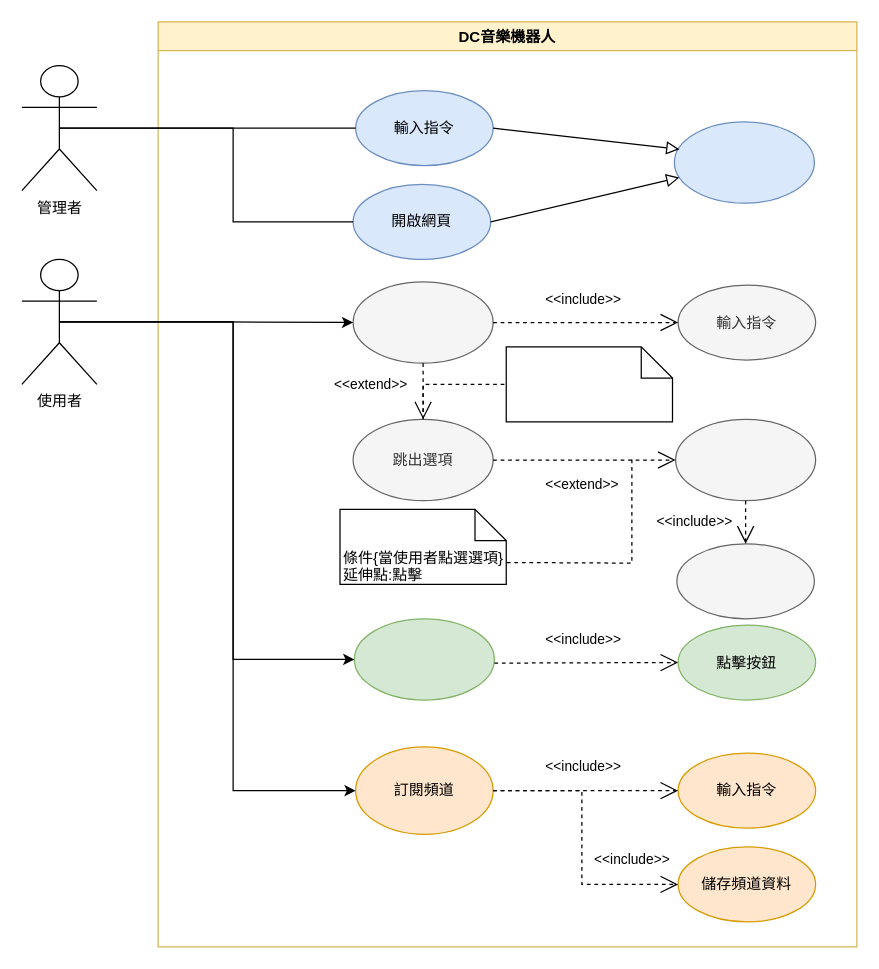
Image size: 879x969. Some labels were removed from this diagram. The shapes that lost their labels are listed below. From the top down, each one's box as (x1, y1, x2, y2) in pixels, then its label:
(673, 121, 814, 203): <<essential>> 載入運作情形
(352, 281, 493, 363): 搜尋歌曲
(505, 346, 672, 422): 條件{當使用者搜尋歌曲} 延伸點:搜尋
(674, 418, 816, 501): 播放歌曲
(676, 542, 814, 619): 儲存音樂資料
(353, 618, 494, 700): 控制播放器
